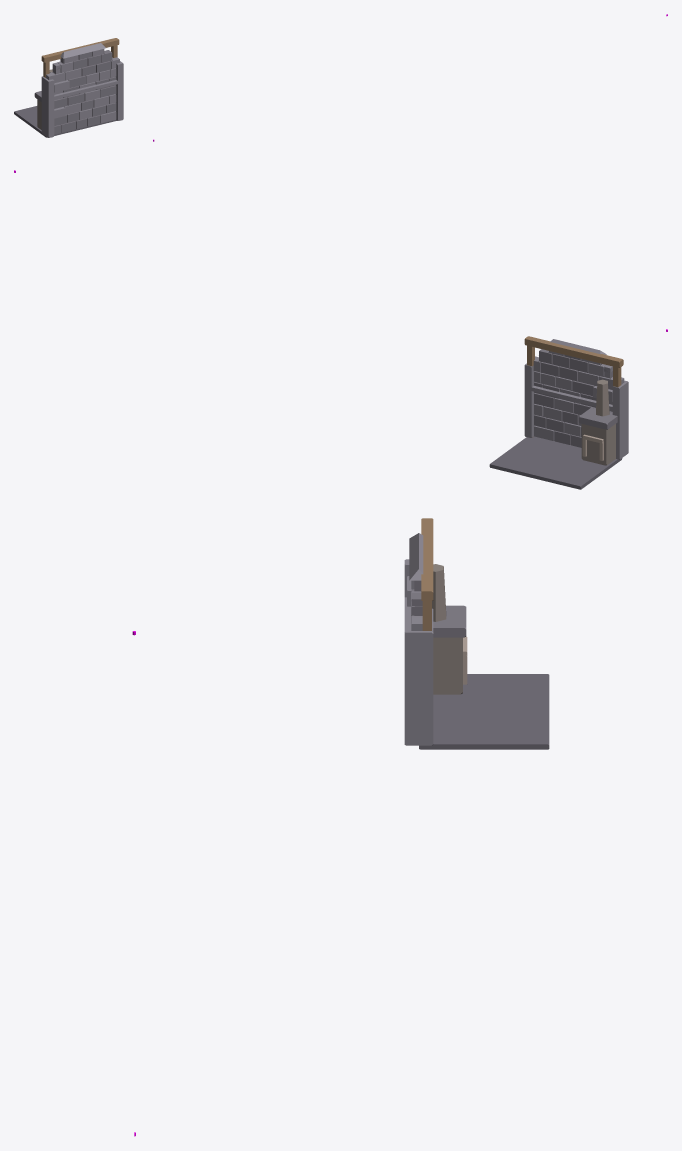
Rendered from Forge.glb.
The picture shows the model from 3 angles, top to bottom: view 1: azimuth 30°, elevation 25°; view 2: azimuth 150°, elevation 25°; view 3: azimuth 270°, elevation 25°; orthographic projection. The views are drawn at different scales.
Visible parts, largest first — view 1: Forge_StoneB, Forge_StoneA, Forge_Wood, Forge_Floor; view 2: Forge_StoneB, Forge_Floor, Forge_StoneA, Forge_Furnace, Forge_Wood; view 3: Forge_Floor, Forge_StoneB, Forge_Furnace, Forge_StoneA, Forge_Wood.
Boxes of the visible parts, left/top/right/bottom form: Forge_StoneB: left=41, top=43, right=123, bottom=137; Forge_StoneA: left=34, top=49, right=116, bottom=134; Forge_Wood: left=41, top=38, right=119, bottom=77; Forge_Floor: left=14, top=106, right=116, bottom=137; Forge_StoneB: left=524, top=339, right=628, bottom=459; Forge_Floor: left=489, top=436, right=622, bottom=489; Forge_StoneA: left=534, top=349, right=622, bottom=447; Forge_Furnace: left=581, top=379, right=615, bottom=465; Forge_Wood: left=524, top=336, right=623, bottom=437; Forge_Floor: left=419, top=674, right=549, bottom=749; Forge_StoneB: left=404, top=533, right=433, bottom=745; Forge_Furnace: left=432, top=564, right=462, bottom=694; Forge_StoneA: left=411, top=580, right=466, bottom=637; Forge_Wood: left=421, top=518, right=433, bottom=630.
Bounding box in the file's own units: 107 × 15.22 × 35.15.
